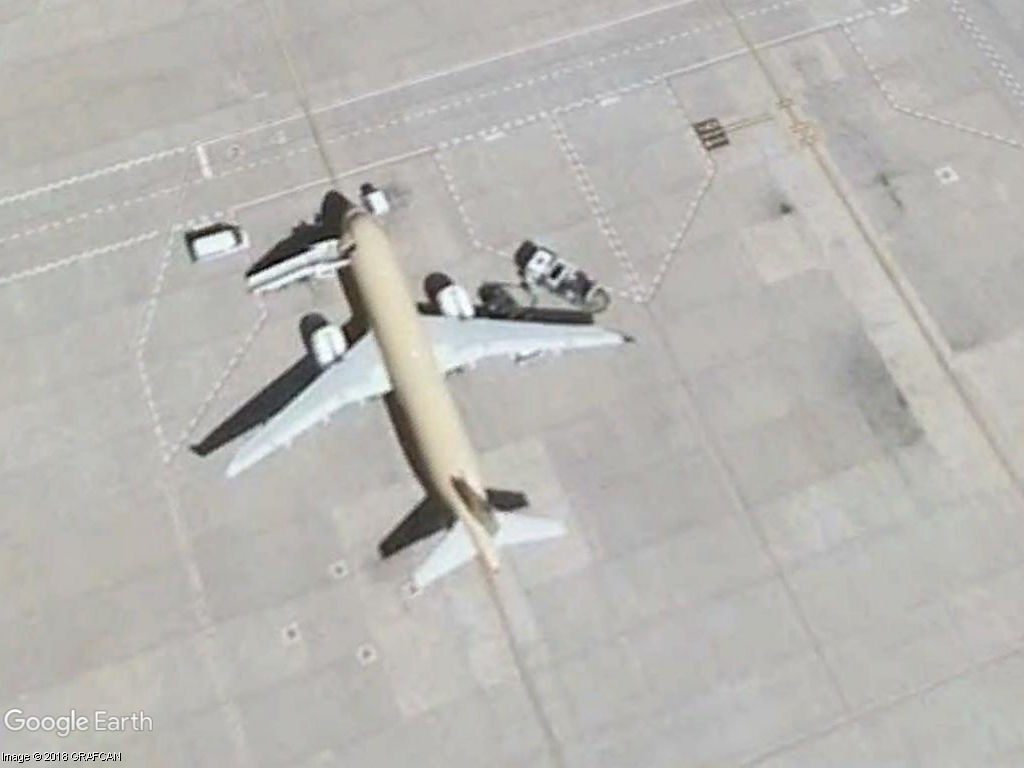airliner: (221, 202, 637, 588)
other: (509, 242, 616, 315)
stairtruck: (234, 235, 345, 302)
van: (178, 216, 257, 265)
